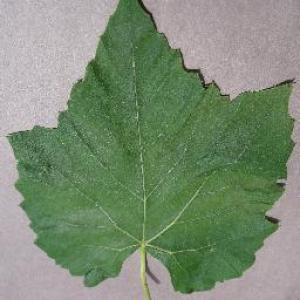Folha: (5, 0, 296, 299)
